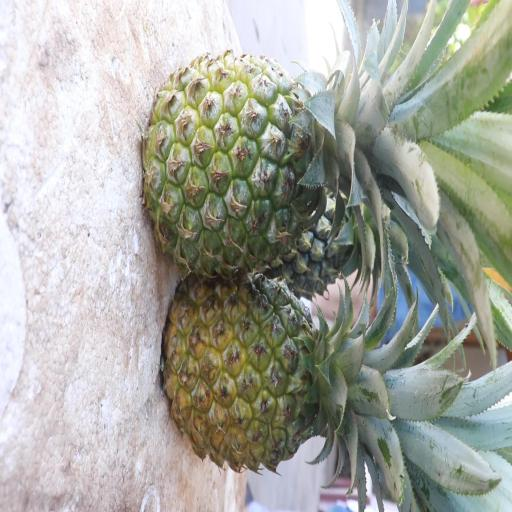------------------------------: (142, 55, 377, 271)
Pineapple - v8 v1: (167, 272, 371, 486)
